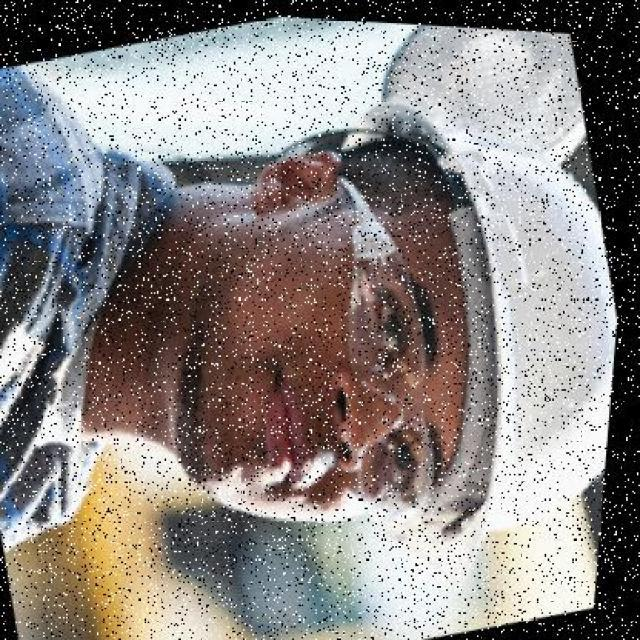helmet: (295, 42, 637, 610)
